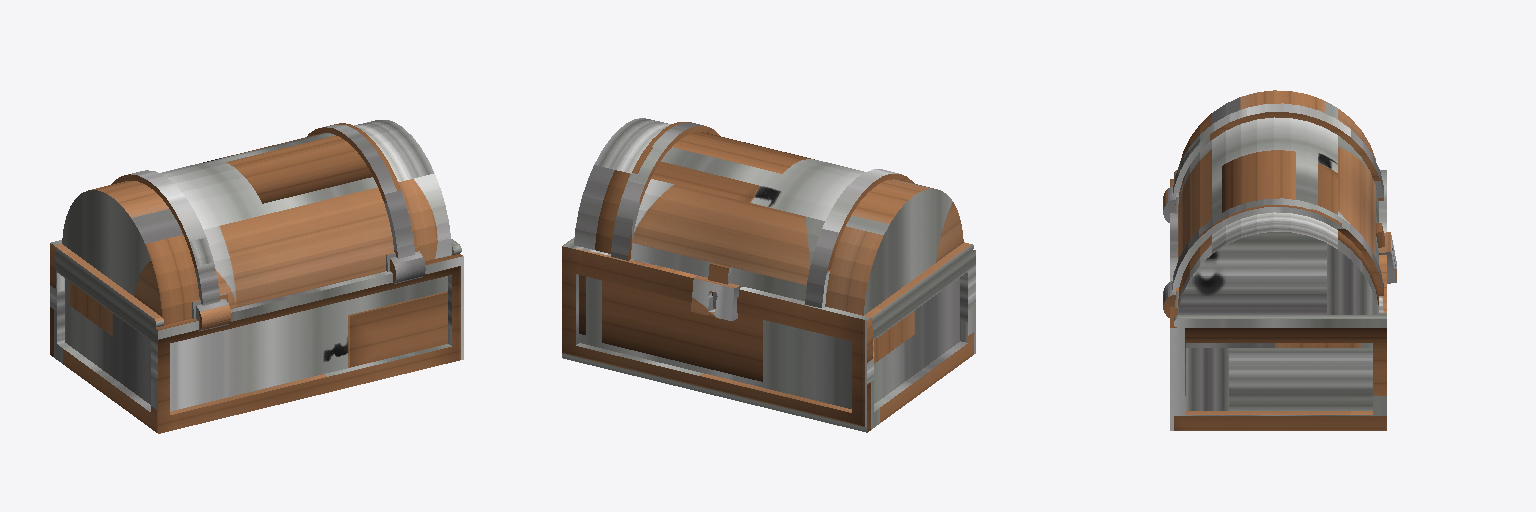
3 views of the same model, side by side, from view 1: azimuth 30°, elevation 25°; view 2: azimuth 150°, elevation 25°; view 3: azimuth 270°, elevation 25° (orthographic).
Visible parts, largest first — view 1: Chest; view 2: Chest; view 3: Chest.
Part boxes in pixels (x1,y1,x2,y2): Chest: (50, 120, 463, 433); Chest: (562, 118, 975, 432); Chest: (1163, 90, 1396, 430).
Size of the model in its own units: 2.67 by 1.68 by 1.77.
1 materials, 1 textured.